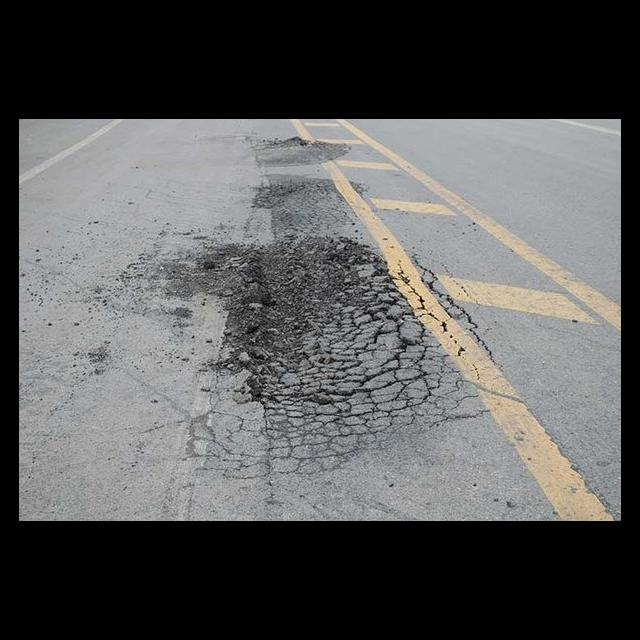retak_kulit_buaya: (280, 303, 443, 453)
retak_memanjang: (400, 256, 498, 375)
